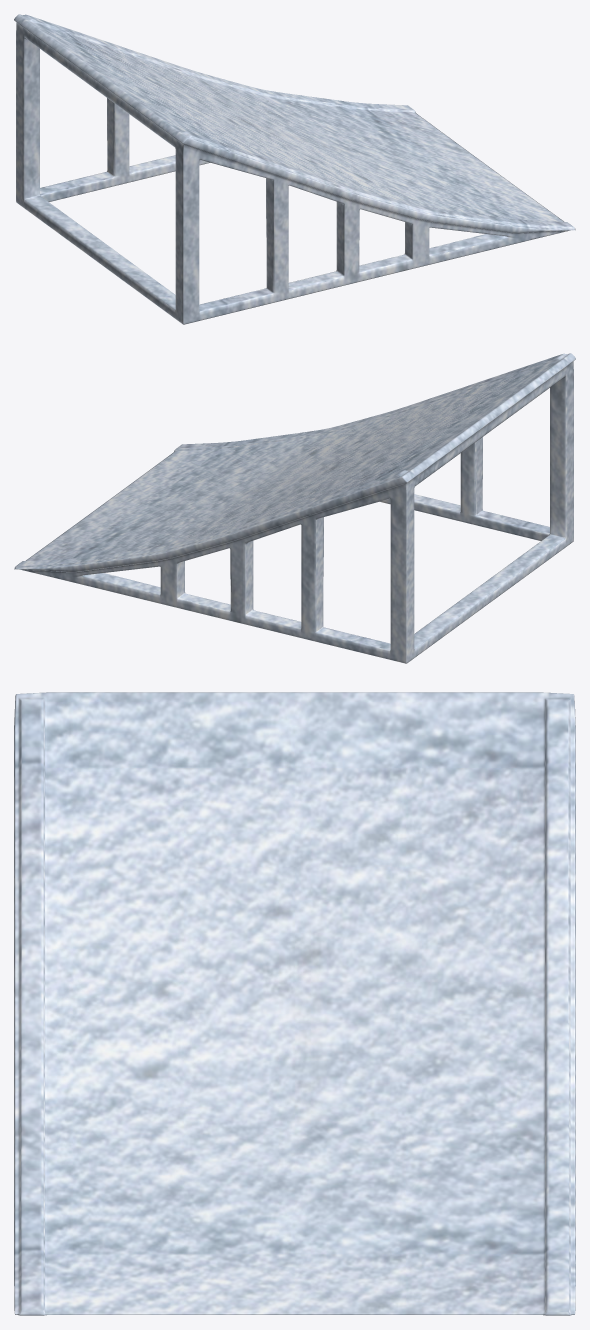
Rendered from rampa.obj.
3 views of the same model, one above another, from view 1: azimuth 30°, elevation 25°; view 2: azimuth 150°, elevation 25°; view 3: azimuth 270°, elevation 25° (orthographic). The views are drawn at different scales.
Visible parts, largest first — view 1: rampaPinguino; view 2: rampaPinguino; view 3: rampaPinguino.
Part boxes in pixels (left/top/right/bottom): rampaPinguino: left=14, top=14, right=575, bottom=324; rampaPinguino: left=14, top=353, right=575, bottom=663; rampaPinguino: left=14, top=692, right=575, bottom=1315.
Bounding box in the file's own units: 12.42 × 5.64 × 9.28.
1 material, 1 textured.
